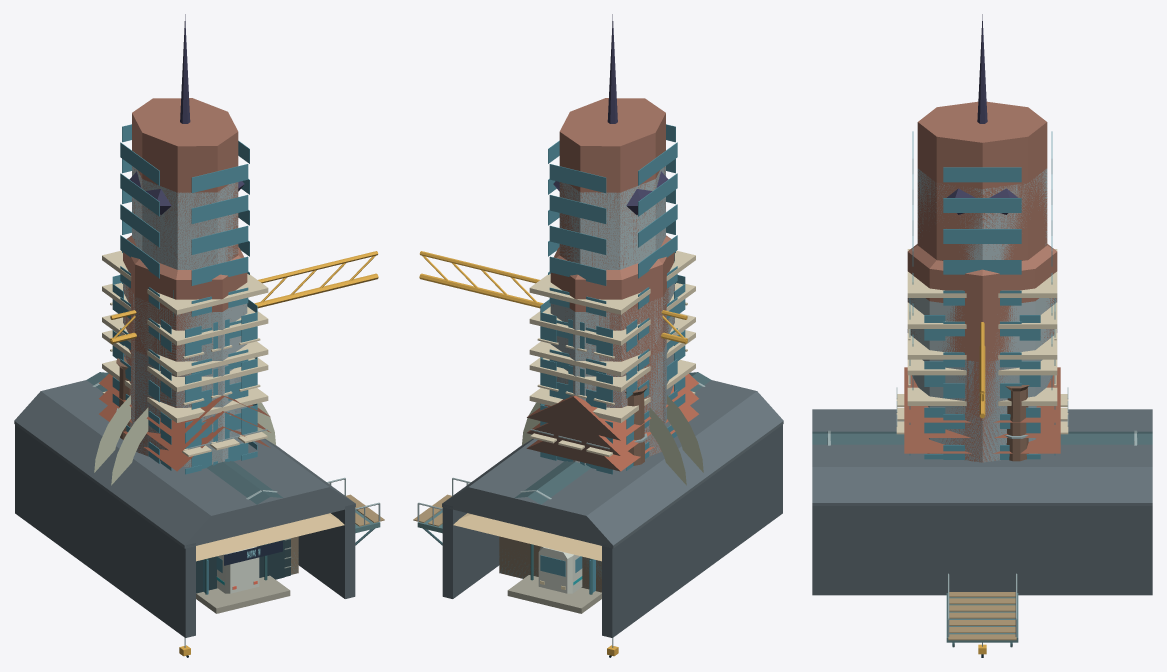
The model's file is city-kit.glb.
3 renders of one model, left to right at view 1: azimuth 30°, elevation 25°; view 2: azimuth 150°, elevation 25°; view 3: azimuth 270°, elevation 25°, orthographic.
Parts seen in each view (by area): view 1: tunnel, building-11, building-6, building-1, building-0, building-10, station, arch, coastal-canopy, building-7, crane, warehouse-gate (+10 smaller); view 2: tunnel, building-11, building-6, building-1, building-0, building-10, building-2, arch, coastal-canopy, crane, station, building-3 (+10 smaller); view 3: tunnel, building-11, building-6, building-1, bridge-leaf, building-0, warehouse-gate, building-10, building-7, building-2, building-13, building-3 (+5 smaller).
Boxes of the visible parts, left/top/right/bottom form: tunnel: left=14, top=380, right=355, bottom=637; building-11: left=120, top=98, right=249, bottom=466; building-6: left=120, top=159, right=249, bottom=466; building-1: left=120, top=251, right=249, bottom=468; building-0: left=102, top=313, right=268, bottom=474; building-10: left=102, top=251, right=268, bottom=358; station: left=196, top=541, right=290, bottom=613; arch: left=94, top=395, right=275, bottom=485; coastal-canopy: left=196, top=513, right=344, bottom=561; building-7: left=102, top=360, right=268, bottom=456; crane: left=110, top=251, right=378, bottom=343; warehouse-gate: left=87, top=372, right=283, bottom=504; tunnel: left=442, top=380, right=783, bottom=637; building-11: left=548, top=98, right=677, bottom=455; building-6: left=548, top=159, right=677, bottom=464; building-1: left=548, top=251, right=677, bottom=468; building-0: left=529, top=313, right=695, bottom=474; building-10: left=529, top=251, right=695, bottom=358; building-2: left=527, top=374, right=698, bottom=440; arch: left=522, top=395, right=703, bottom=485; coastal-canopy: left=453, top=513, right=601, bottom=561; crane: left=419, top=251, right=687, bottom=343; station: left=507, top=544, right=601, bottom=613; building-3: left=526, top=406, right=698, bottom=471; tunnel: left=812, top=409, right=1152, bottom=595; building-11: left=907, top=101, right=1057, bottom=462; building-6: left=907, top=168, right=1057, bottom=461; building-1: left=912, top=273, right=1052, bottom=462; bridge-leaf: left=946, top=573, right=1018, bottom=647; building-0: left=907, top=333, right=1057, bottom=459; warehouse-gate: left=812, top=430, right=1152, bottom=445; building-10: left=907, top=249, right=1057, bottom=340; building-7: left=896, top=387, right=1068, bottom=434; building-2: left=904, top=367, right=1060, bottom=422; building-13: left=1004, top=385, right=1029, bottom=461; building-3: left=904, top=438, right=1060, bottom=453.
Bounding box in the file's own units: 18.83 × 41.68 × 20.
5 materials, 2 textured.
